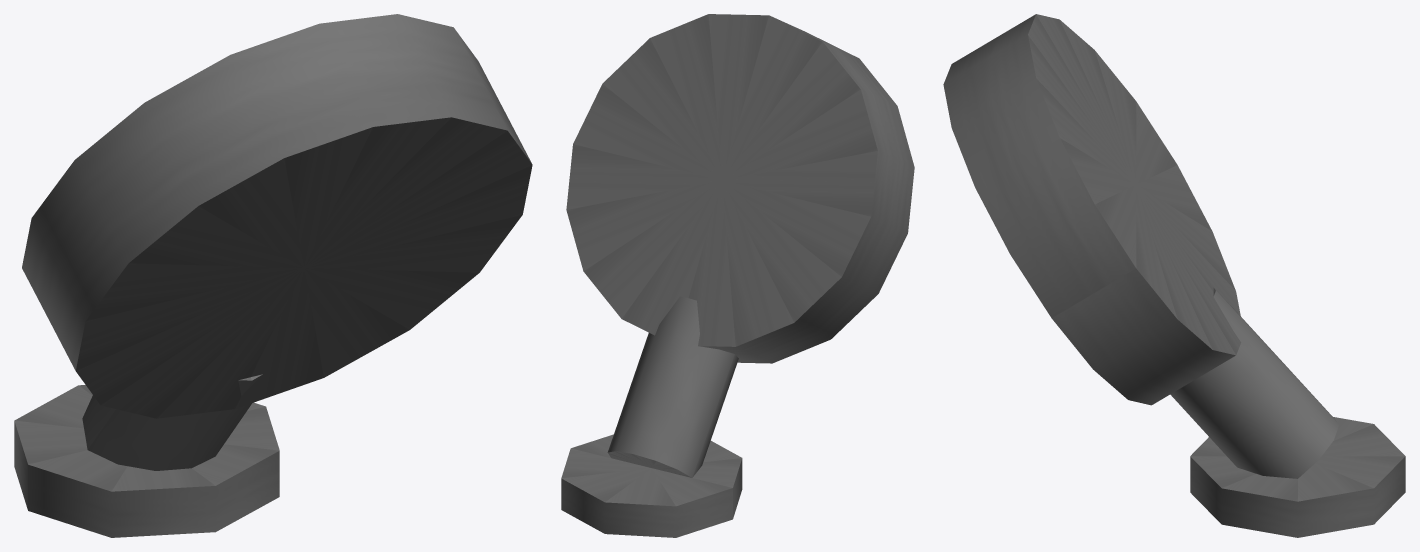
File: mastarmcurve_6x2_c0_down.obj
3 renders of one model, left to right at view 1: azimuth 30°, elevation 25°; view 2: azimuth 150°, elevation 25°; view 3: azimuth 270°, elevation 25°, orthographic. The views are drawn at different scales.
Visible parts, largest first — view 1: mastarm_6x2_c0_down; view 2: mastarm_6x2_c0_down; view 3: mastarm_6x2_c0_down.
Part boxes in pixels (x1,y1,x2,y2): mastarm_6x2_c0_down: (14,14,532,537); mastarm_6x2_c0_down: (561,14,914,537); mastarm_6x2_c0_down: (943,14,1405,537).
Size of the model in its own units: 0.735 by 0.9383 by 0.8582.
